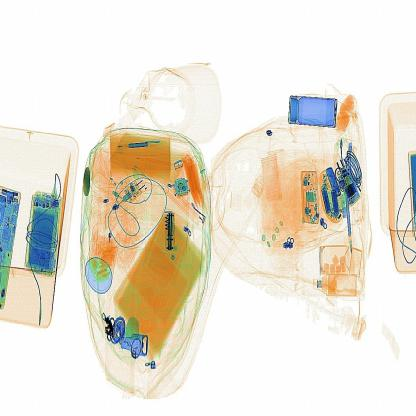scissors: (157, 202, 178, 258)
